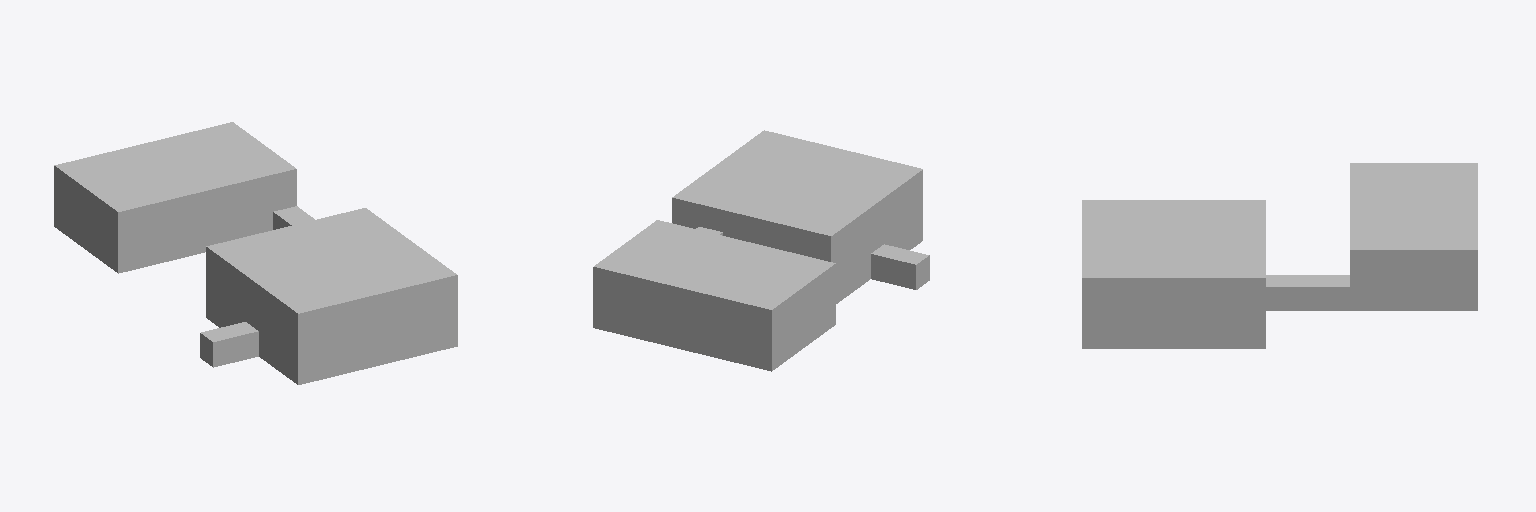
The picture shows the model from 3 angles: view 1: azimuth 30°, elevation 25°; view 2: azimuth 150°, elevation 25°; view 3: azimuth 270°, elevation 25°; orthographic projection.
Parts seen in each view (by area): view 1: Plane; view 2: Plane; view 3: Plane.
Boxes of the visible parts, x1,y1,x2,y2 form: Plane: [54, 122, 457, 384]; Plane: [593, 130, 929, 371]; Plane: [1082, 163, 1477, 348].
Size of the model in its own units: 0.0903 by 0.0363 by 0.1504.